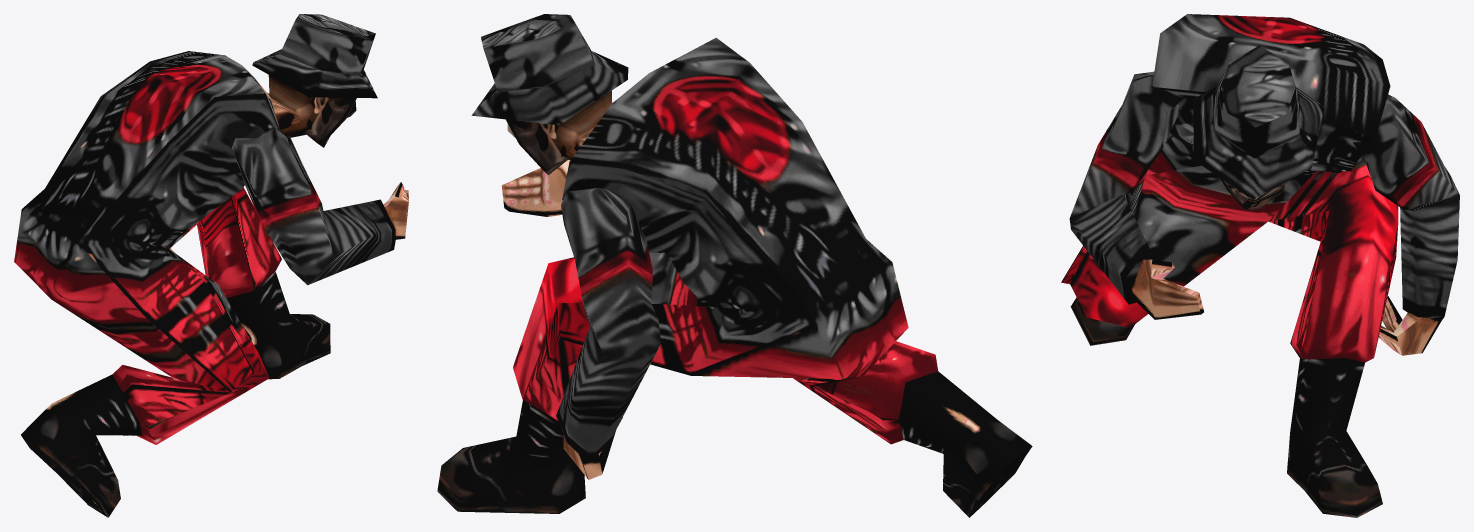
The model's file is sniper2_red_crouch.glb.
3 renders of one model, left to right at view 1: azimuth 30°, elevation 25°; view 2: azimuth 150°, elevation 25°; view 3: azimuth 270°, elevation 25°, orthographic. The views are drawn at different scales.
Parts seen in each view (by area): view 1: sniper2; view 2: sniper2; view 3: sniper2.
Part boxes in pixels (box(x1,y1,x2,y2)): sniper2: box(14, 14, 408, 517); sniper2: box(437, 14, 1032, 517); sniper2: box(1061, 14, 1459, 517).
Bounding box in the file's own units: 48.35 × 43.95 × 35.38.
1 material, 1 textured.
